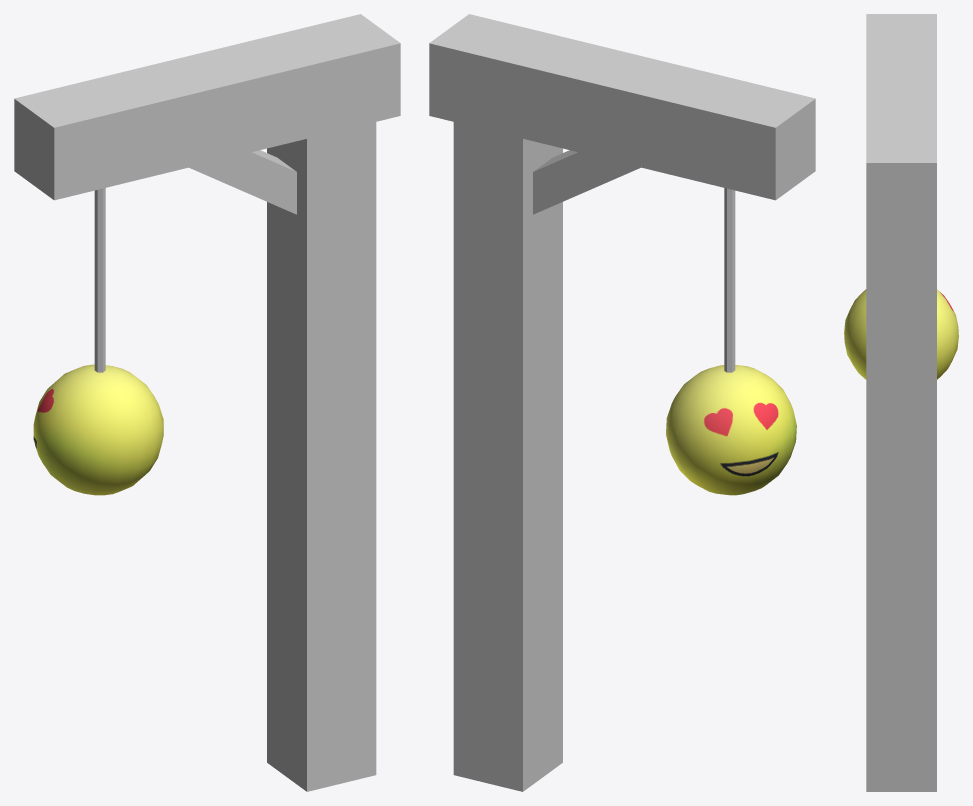
Rendered from Smile face stand.fbx.
3 views of the same model, side by side, from view 1: azimuth 30°, elevation 25°; view 2: azimuth 150°, elevation 25°; view 3: azimuth 270°, elevation 25° (orthographic). The views are drawn at different scales.
Visible parts, largest first — view 1: Stand, Smile.001, Rope; view 2: Stand, Smile.001, Rope; view 3: Stand, Smile.001.
Part boxes in pixels (x1,y1,x2,y2): Stand: (14, 14, 400, 791); Smile.001: (33, 364, 163, 495); Rope: (94, 188, 105, 372); Stand: (429, 14, 815, 791); Smile.001: (666, 365, 796, 495); Rope: (724, 188, 735, 372); Stand: (866, 14, 936, 791); Smile.001: (844, 289, 958, 379).
Bounding box in the file's own units: 4.83 × 9.66 × 1.57.
